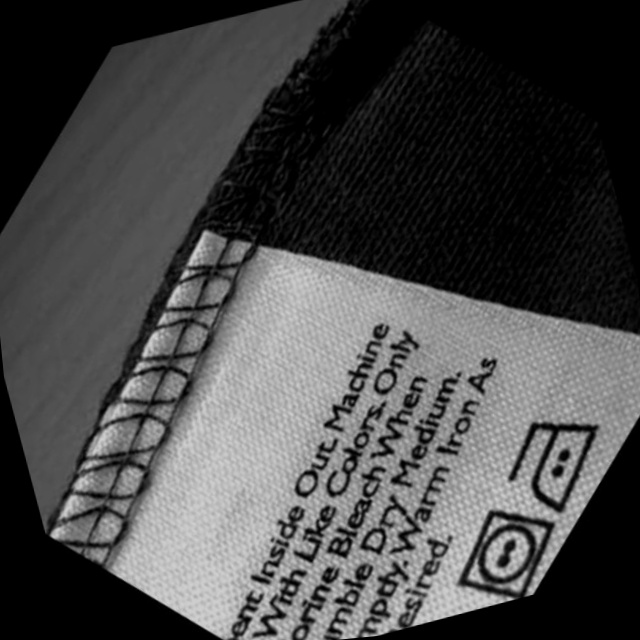iron_medium: (495, 402, 625, 522)
tumble_dry_medium: (443, 495, 575, 611)
